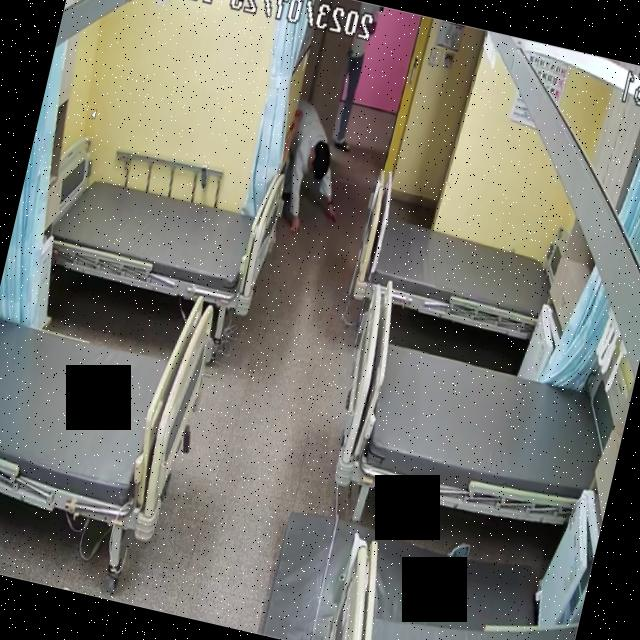bed: (0, 252, 221, 540), (328, 327, 618, 535), (29, 149, 284, 318), (352, 202, 558, 340)
fall: (270, 96, 360, 242)
patient: (270, 91, 364, 242)
